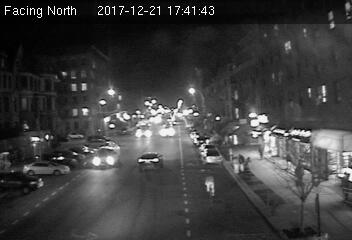bicycle: (203, 167, 219, 201)
car: (91, 146, 120, 168), (137, 152, 163, 169), (201, 149, 222, 162), (135, 125, 153, 137), (159, 126, 175, 136)
